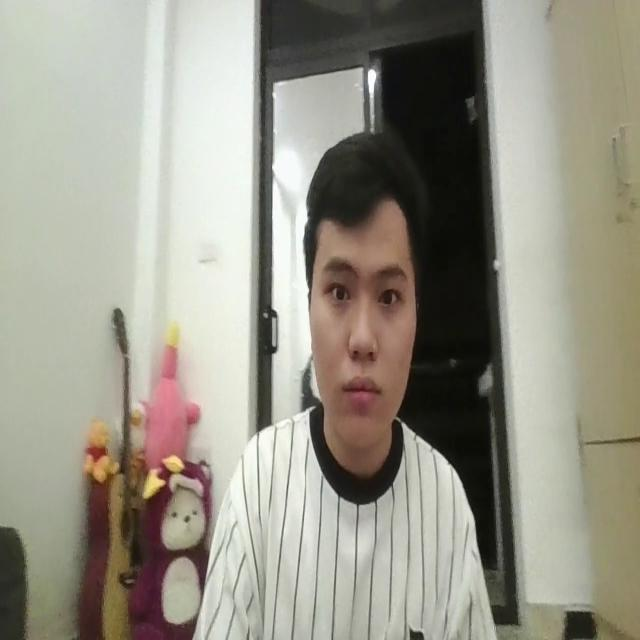student: (201, 119, 497, 640)
